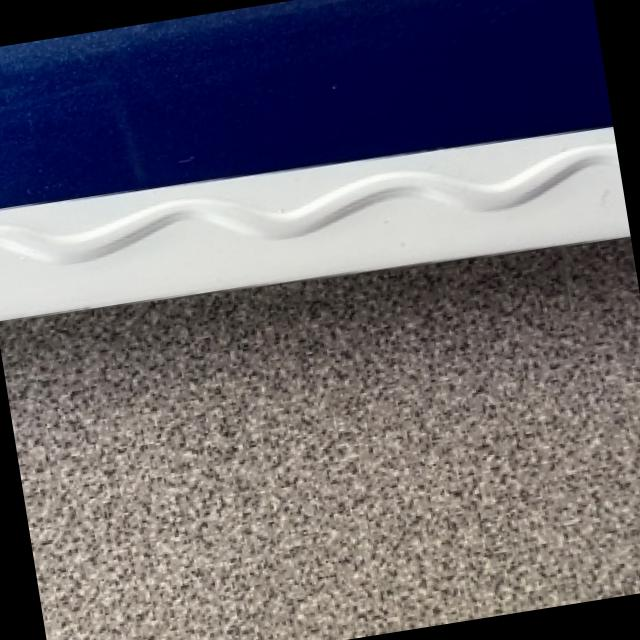healthy: (0, 125, 628, 317)
